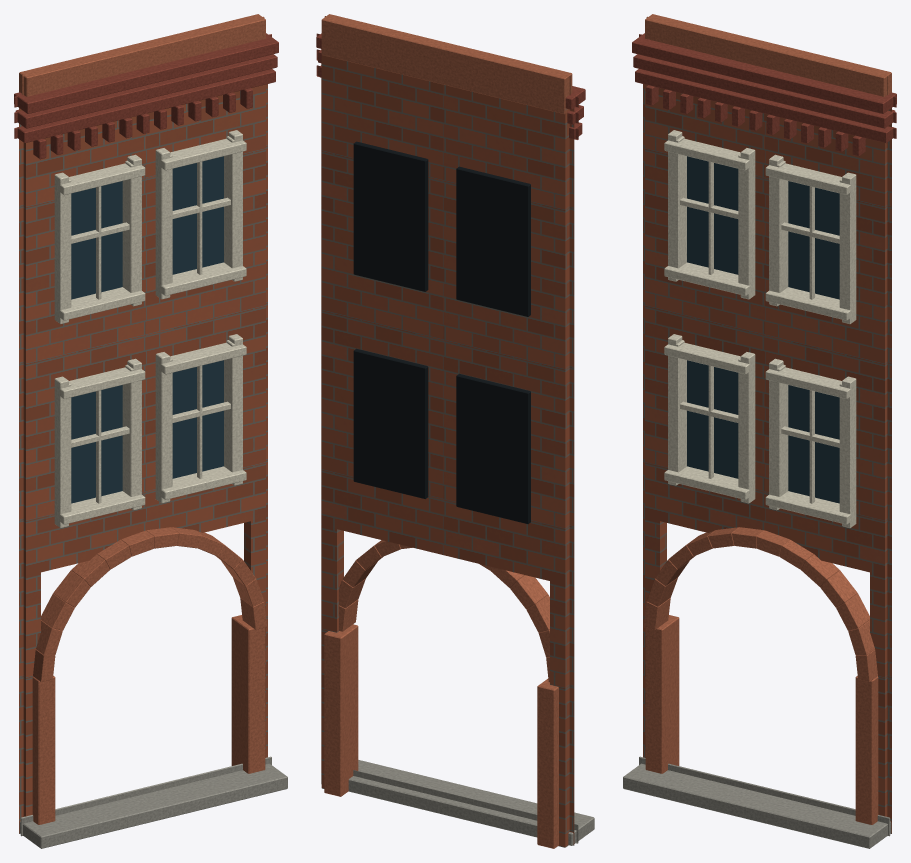
The model's file is VICT27_lod1.glb.
3 views of the same model, side by side, from view 1: azimuth 30°, elevation 25°; view 2: azimuth 150°, elevation 25°; view 3: azimuth 330°, elevation 25° (orthographic).
Visible parts, largest first — view 1: VICT27_FRONT_LOD1; view 2: VICT27_FRONT_LOD1; view 3: VICT27_FRONT_LOD1.
Part boxes in pixels (x1,y1,x2,y2): VICT27_FRONT_LOD1: [14, 14, 287, 848]; VICT27_FRONT_LOD1: [316, 14, 594, 848]; VICT27_FRONT_LOD1: [623, 14, 896, 848].
Bounding box in the file's own units: 3.44 × 9.66 × 0.69.
8 materials, 6 textured.
